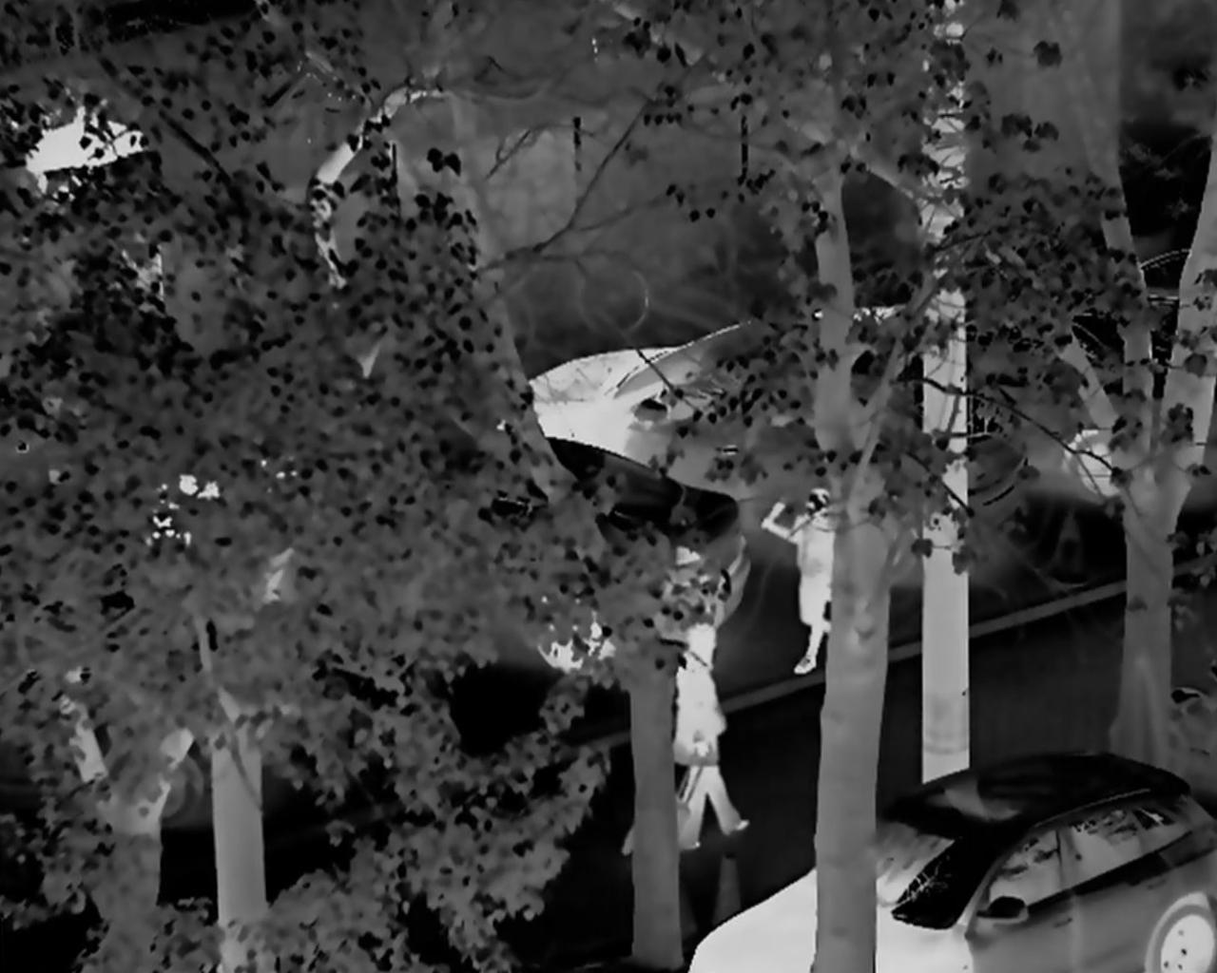person: (653, 624, 755, 846), (767, 485, 856, 670)
